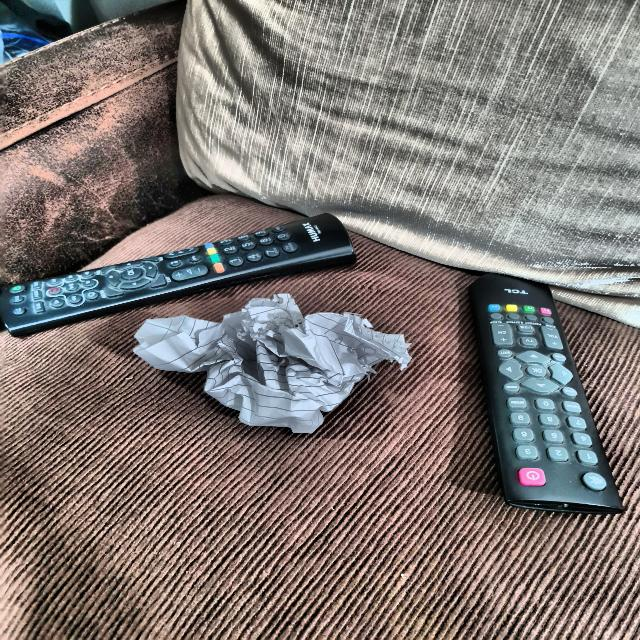Paper: (134, 296, 424, 437)
